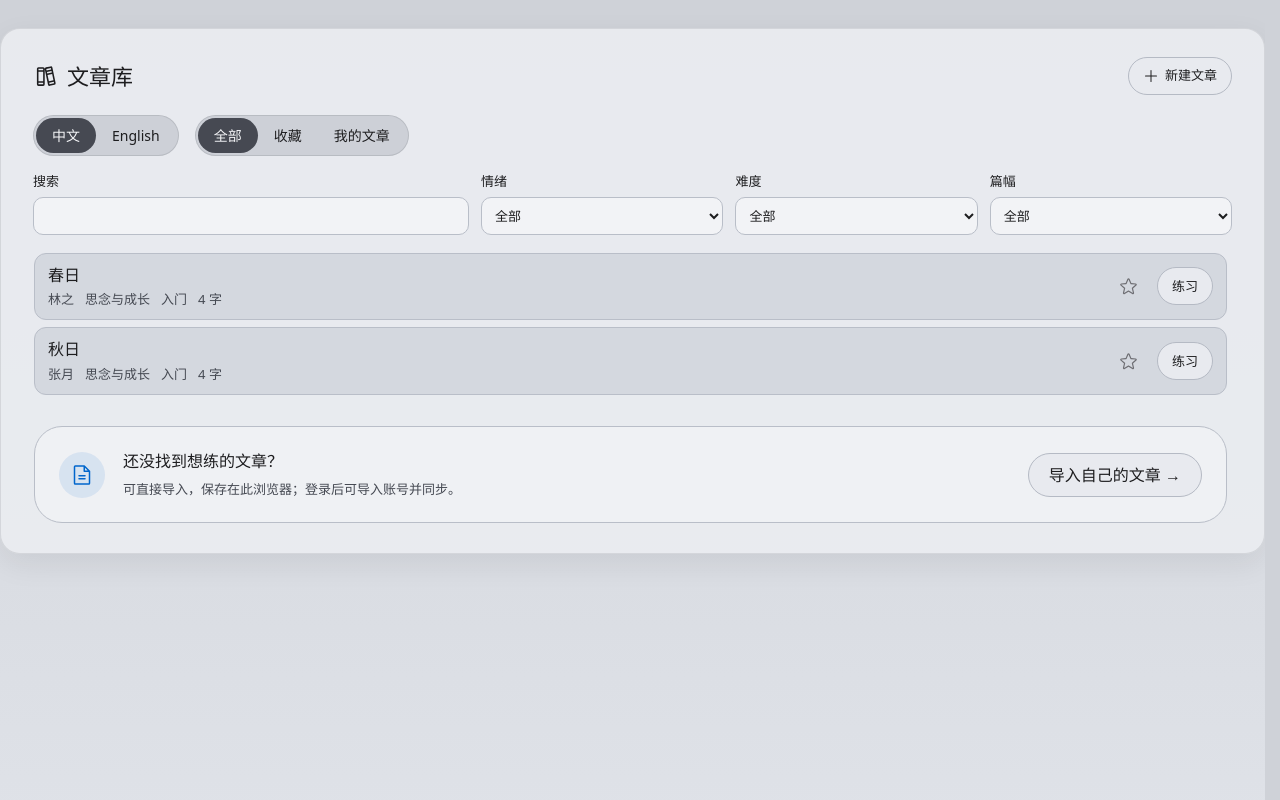
Test case: article library › creates a private article on origins without crypto.randomUUID
Click the button "新建文章" at [1180, 76], box [1128, 57, 1232, 95]
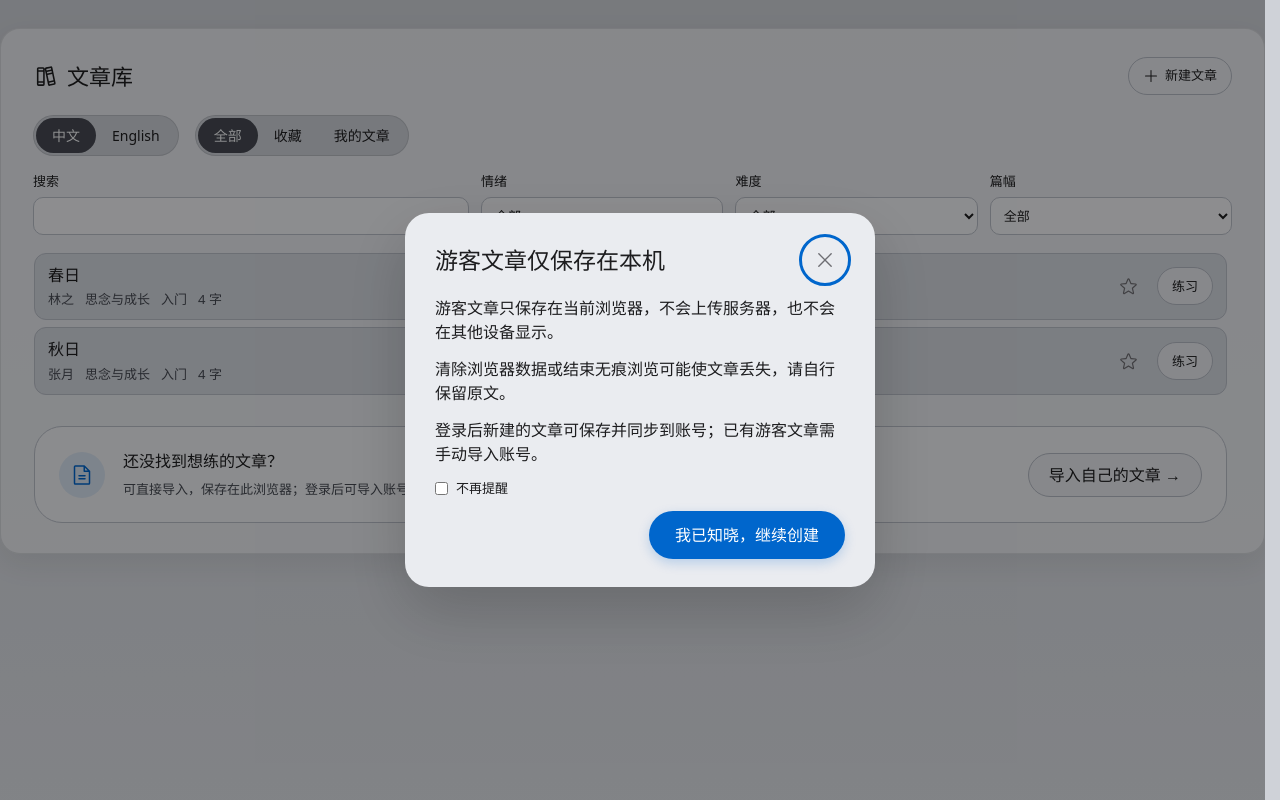
Click the button "我已知晓，继续创建" at [747, 535], box [649, 511, 845, 559]
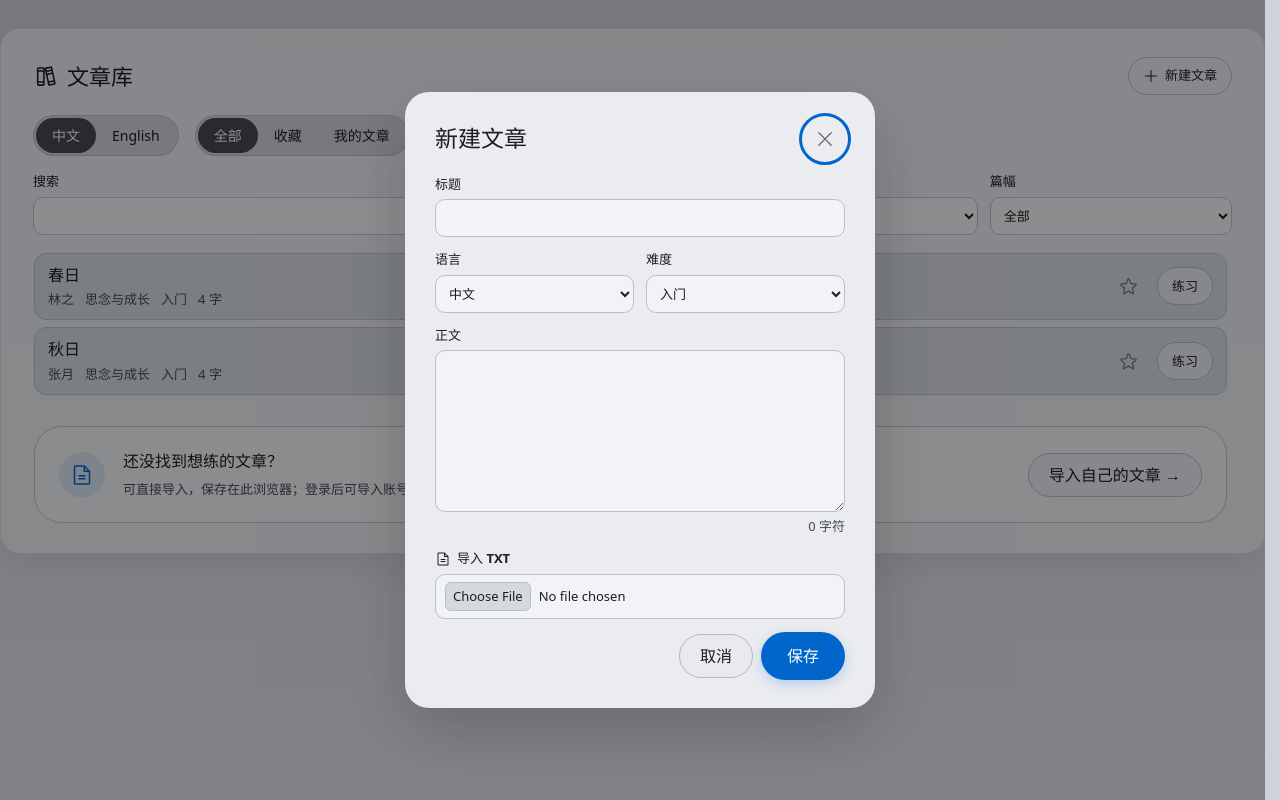
Type "短笺" into the field labelled "标题" at [640, 218], box [435, 199, 845, 237]
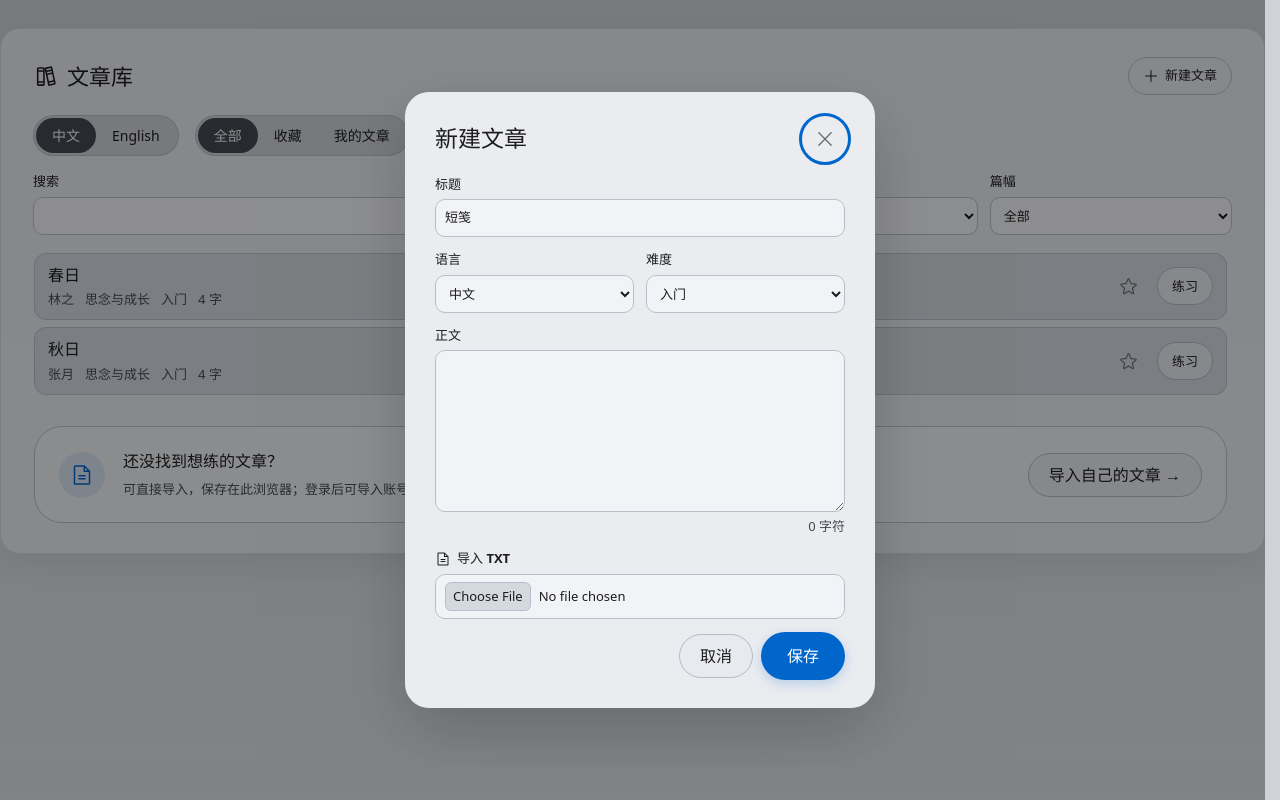
Type "山海" into the text box labelled "正文" at [640, 431], box [435, 350, 845, 512]
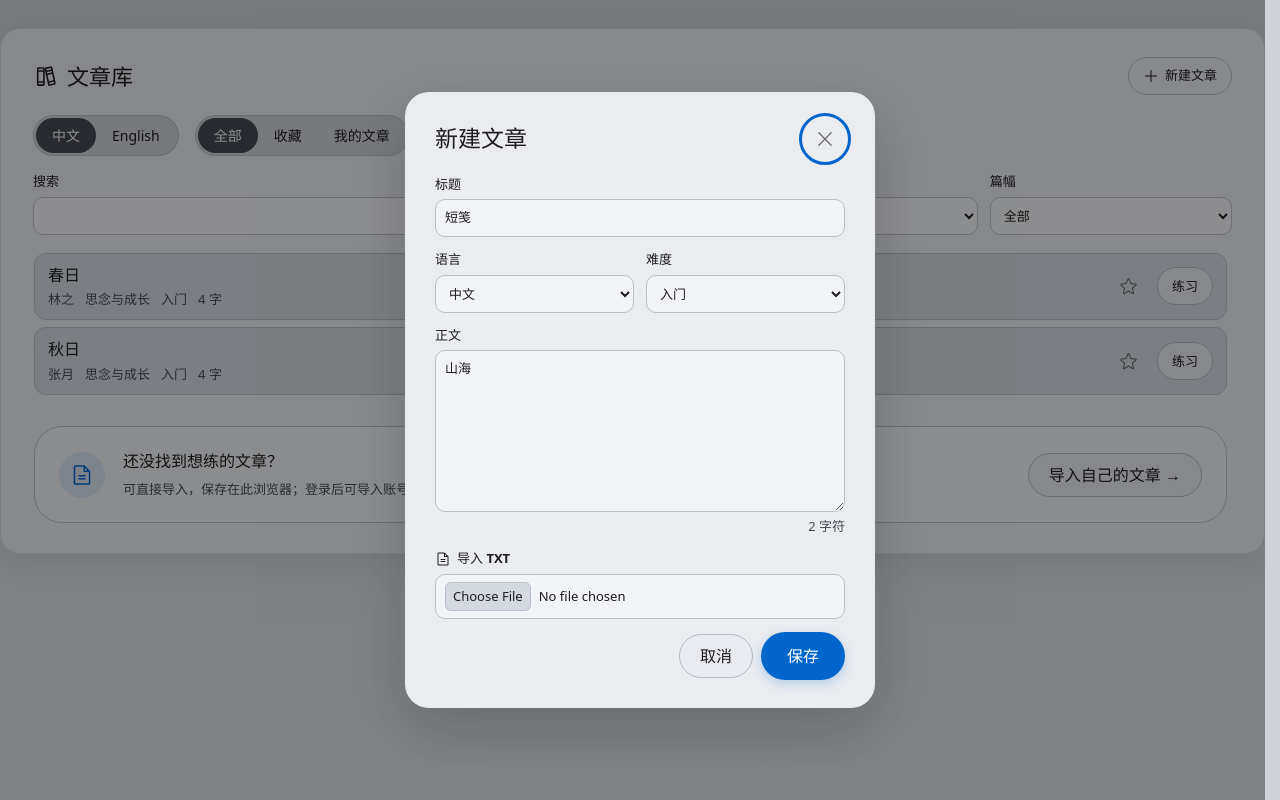
Click the button "保存" at [803, 656], box [761, 632, 845, 680]
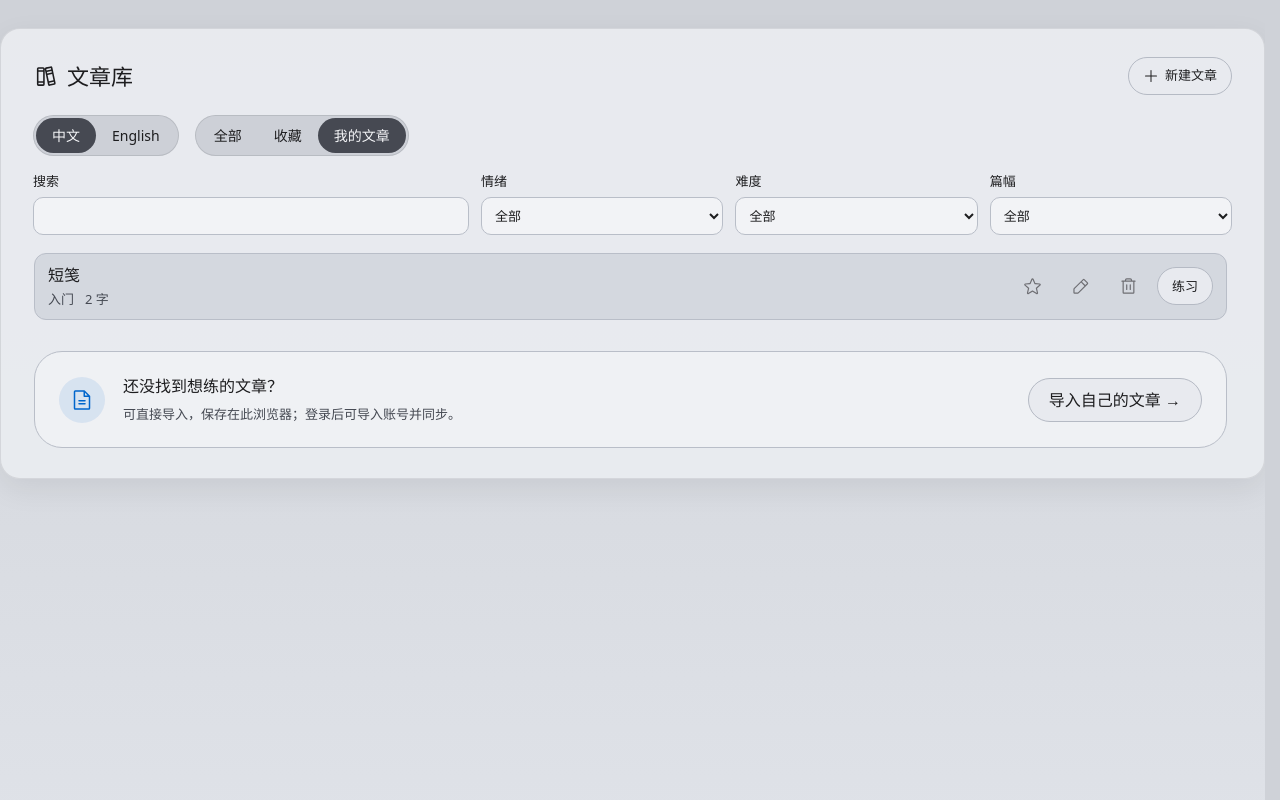
expect the dialog is gone: met
expect the heading "短笺" is shown: met, box [48, 264, 80, 286]
